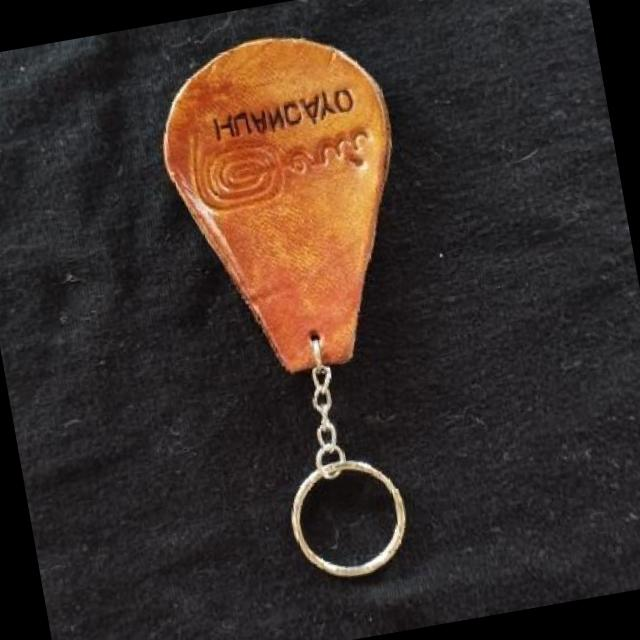Llavero: (144, 18, 432, 392)
